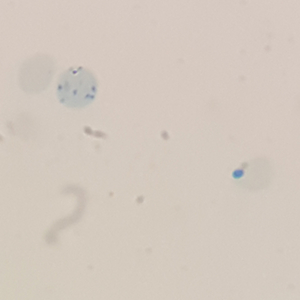aggregate reticulocyte: (54, 64, 99, 110)
erythrocyte: (16, 53, 57, 97), (230, 155, 276, 193)
